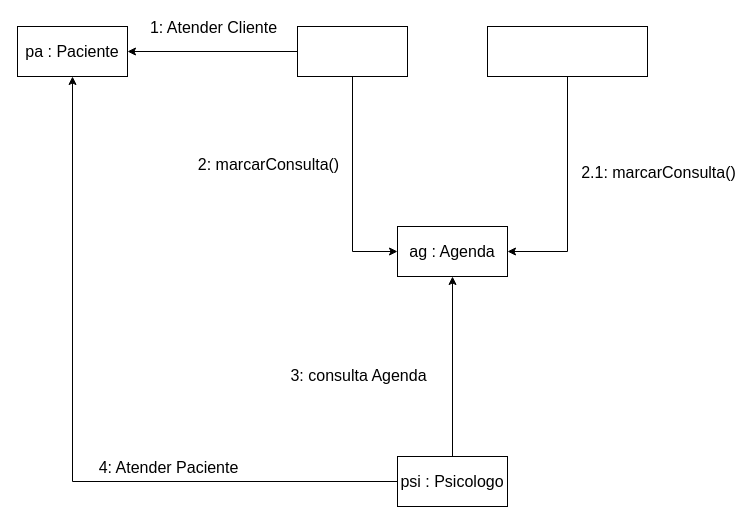
The diagram is 753 pixels wide and 524 high, and some of its shapes have lost their labels. The centre of each missing label's shape, as x and y in pixels:
a : Atendente: the point at 352,51
adm : Administrador: the point at 567,51
